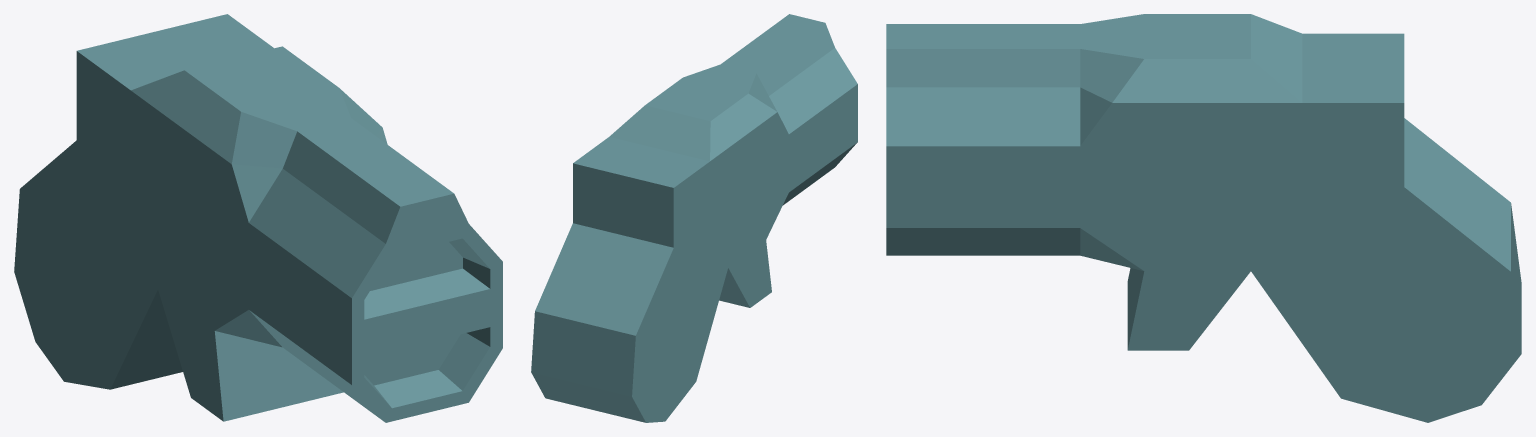
File: S_Derringer.fbx
3 renders of one model, left to right at view 1: azimuth 30°, elevation 25°; view 2: azimuth 150°, elevation 25°; view 3: azimuth 270°, elevation 25°, orthographic. The views are drawn at different scales.
Visible parts, largest first — view 1: Derringer; view 2: Derringer; view 3: Derringer.
Part boxes in pixels (box(x1,y1,x2,y2)): Derringer: box(14, 14, 502, 422); Derringer: box(531, 14, 857, 422); Derringer: box(886, 14, 1521, 422).
Bounding box in the file's own units: 12 × 28.41 × 46.51.
